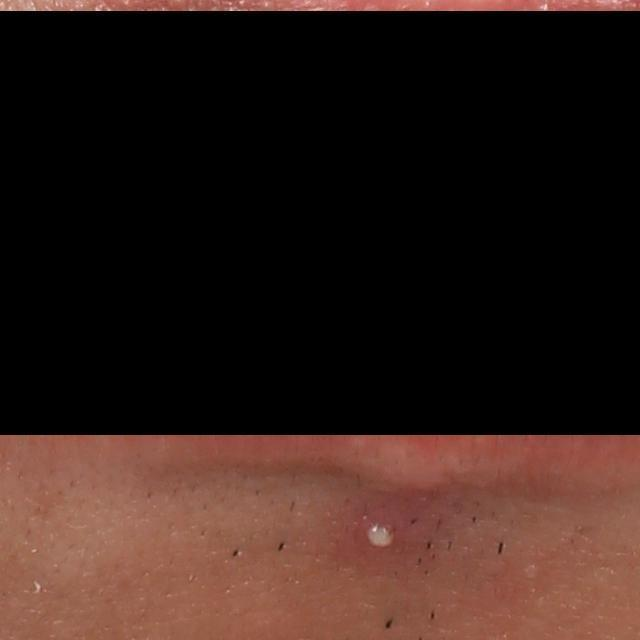pustule: (354, 508, 407, 562)
